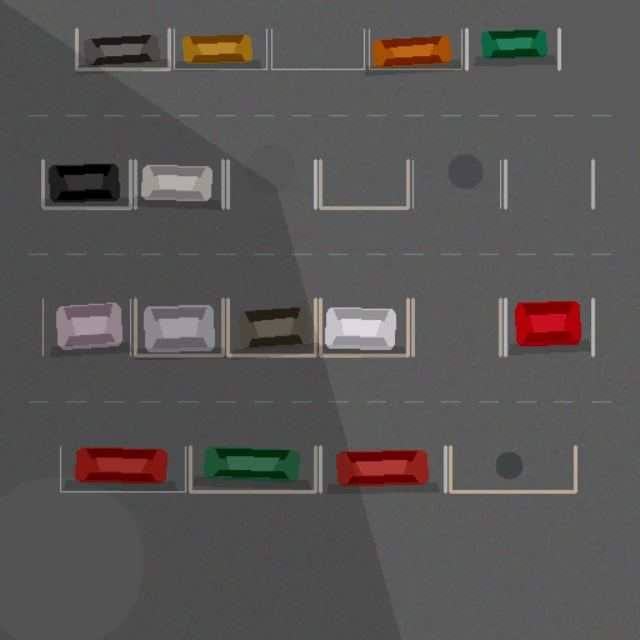space-empty: (450, 446, 575, 491), (413, 299, 500, 355), (227, 160, 315, 207), (505, 160, 593, 207), (320, 160, 407, 207), (413, 160, 500, 207), (271, 29, 364, 69)
space-occupied: (60, 446, 185, 491), (190, 446, 315, 491), (320, 446, 445, 491), (135, 299, 223, 355), (227, 299, 315, 355), (505, 299, 593, 355), (43, 299, 130, 355), (320, 299, 407, 355), (135, 160, 223, 207), (43, 160, 130, 207), (76, 29, 169, 69), (466, 29, 559, 69), (174, 29, 266, 69), (369, 29, 461, 69)
